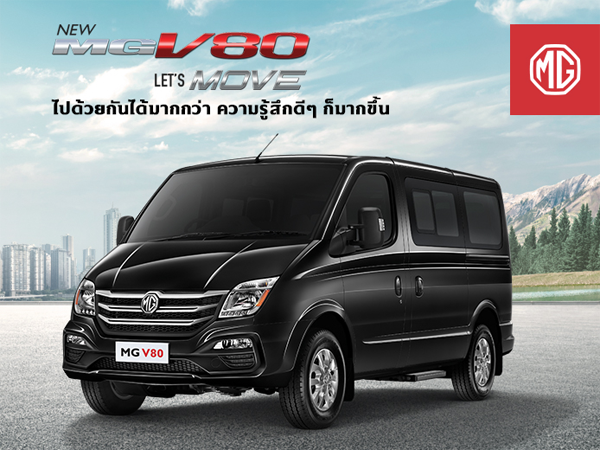van: (58, 151, 518, 429)
